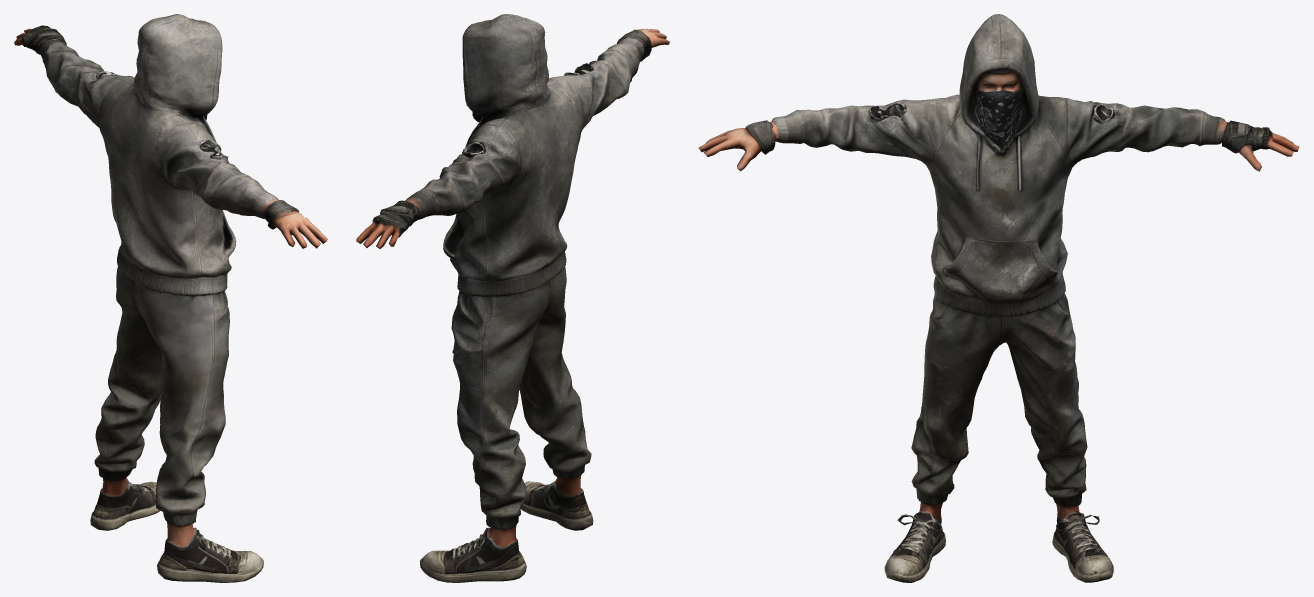
Rendered from h_clan3_rig.glb.
3 views of the same model, side by side, from view 1: azimuth 30°, elevation 25°; view 2: azimuth 150°, elevation 25°; view 3: azimuth 270°, elevation 25° (orthographic). The views are drawn at different scales.
Visible parts, largest first — view 1: tripo_node_de8c6b18-c04f-453b-be5e-0e2e6024571b; view 2: tripo_node_de8c6b18-c04f-453b-be5e-0e2e6024571b; view 3: tripo_node_de8c6b18-c04f-453b-be5e-0e2e6024571b.
Boxes of the visible parts, x1,y1,x2,y2 form: tripo_node_de8c6b18-c04f-453b-be5e-0e2e6024571b: (14, 14, 327, 582); tripo_node_de8c6b18-c04f-453b-be5e-0e2e6024571b: (356, 14, 669, 582); tripo_node_de8c6b18-c04f-453b-be5e-0e2e6024571b: (698, 14, 1299, 582).
Size of the model in its own units: 0.1923 by 0.9777 by 0.9802.
1 material, 1 textured.
